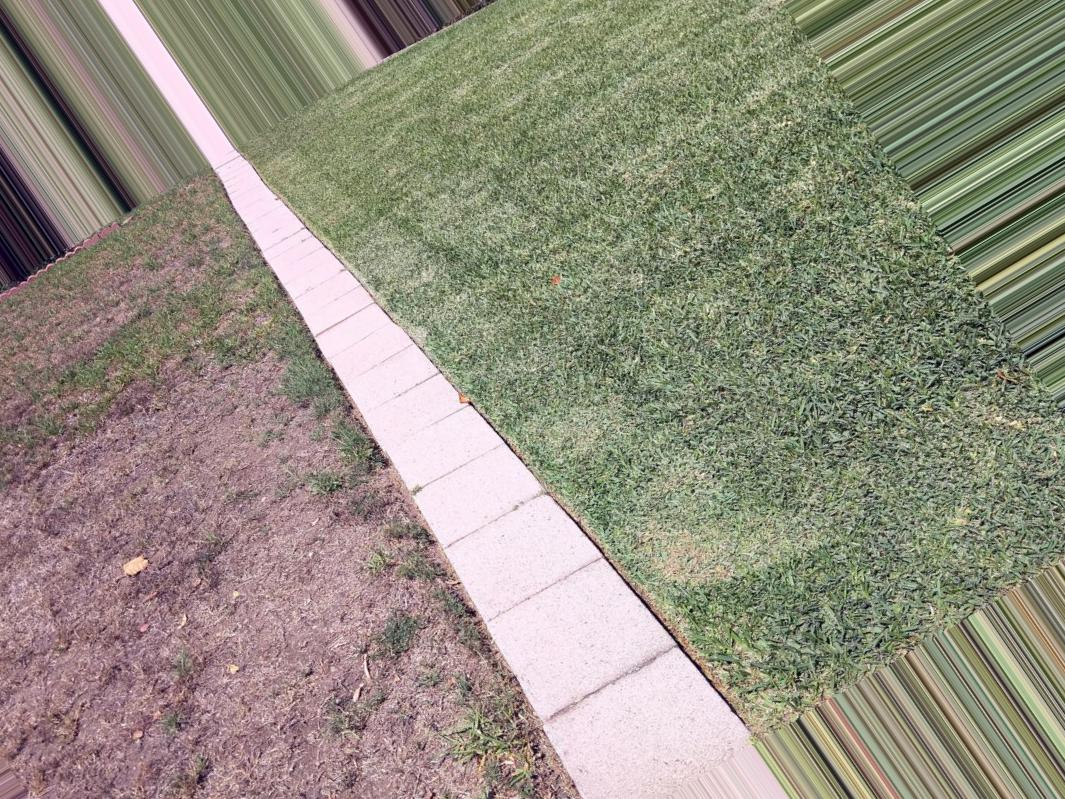patch: (44, 470, 303, 799), (291, 568, 448, 770), (536, 323, 603, 421), (673, 501, 771, 554)
